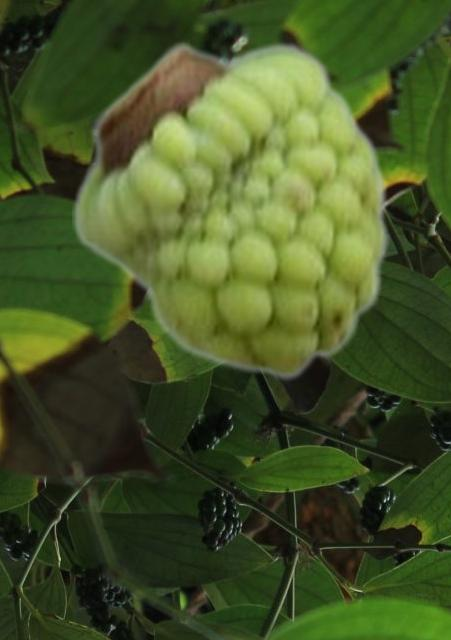atis: (72, 39, 390, 382)
